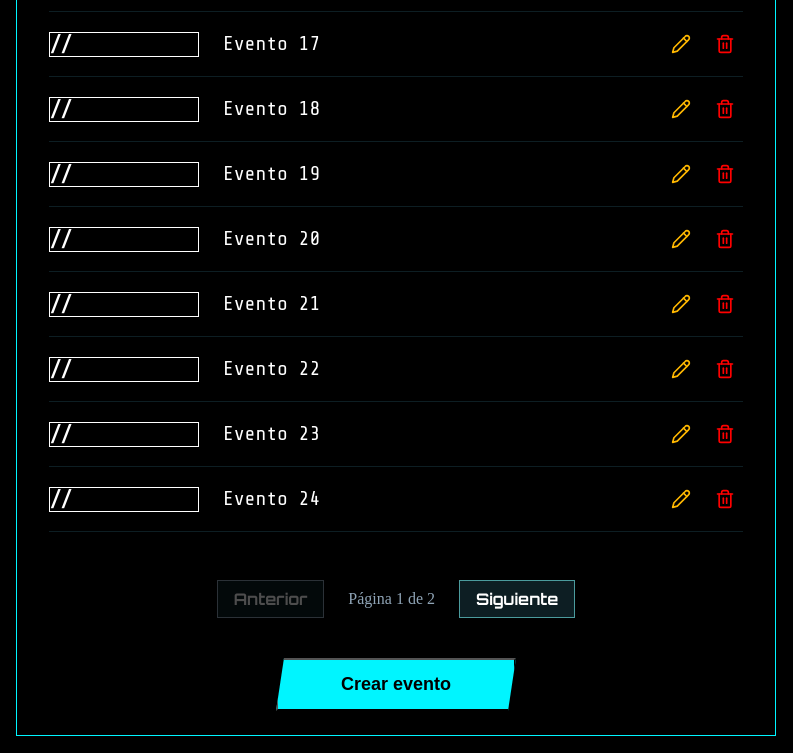
Scenario: UserPanel — Cobertura completa › navega a la página anterior con el botón 'Anterior'
(page scrolled)
Click the button "Siguiente": (517, 599) [459,580,575,618]
(page scrolled)
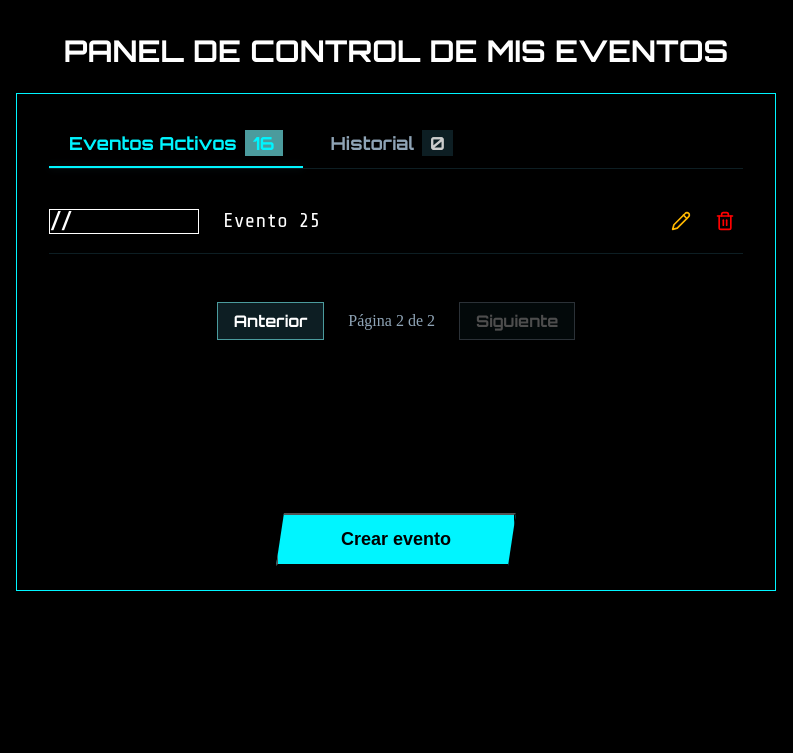
Expected: the text "Página 2 de 2" is shown, [348,312,435,330]
Click the button "Anterior": (270, 321) [217,302,324,340]
(page scrolled)
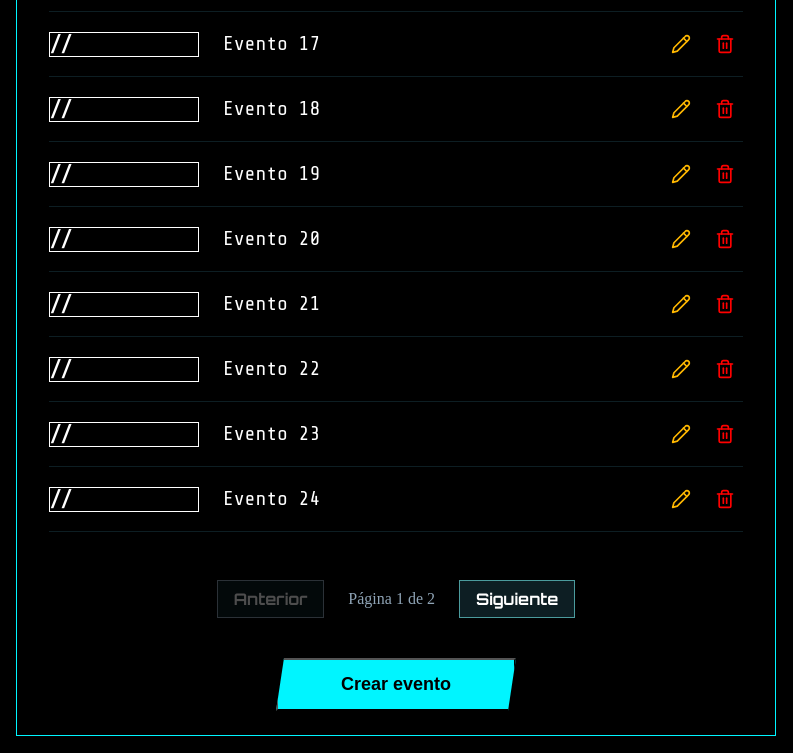
Expected: the text "Página 1 de 2" is shown, [348,590,435,608]
